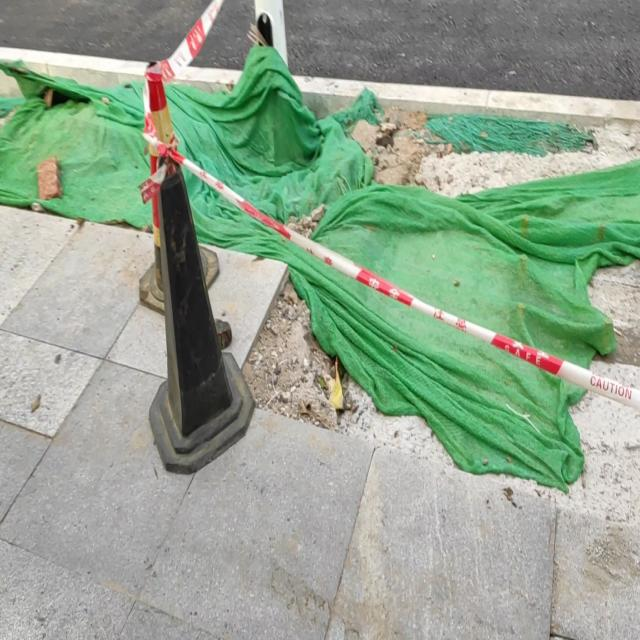reflective_cone: (144, 136, 257, 475), (136, 62, 221, 308)
